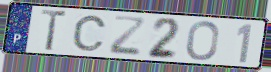1: (236, 23, 254, 64)
2: (148, 17, 183, 60)
C: (71, 14, 108, 52)
O: (185, 20, 221, 62)
T: (39, 9, 70, 53)
Z: (108, 14, 148, 57)
